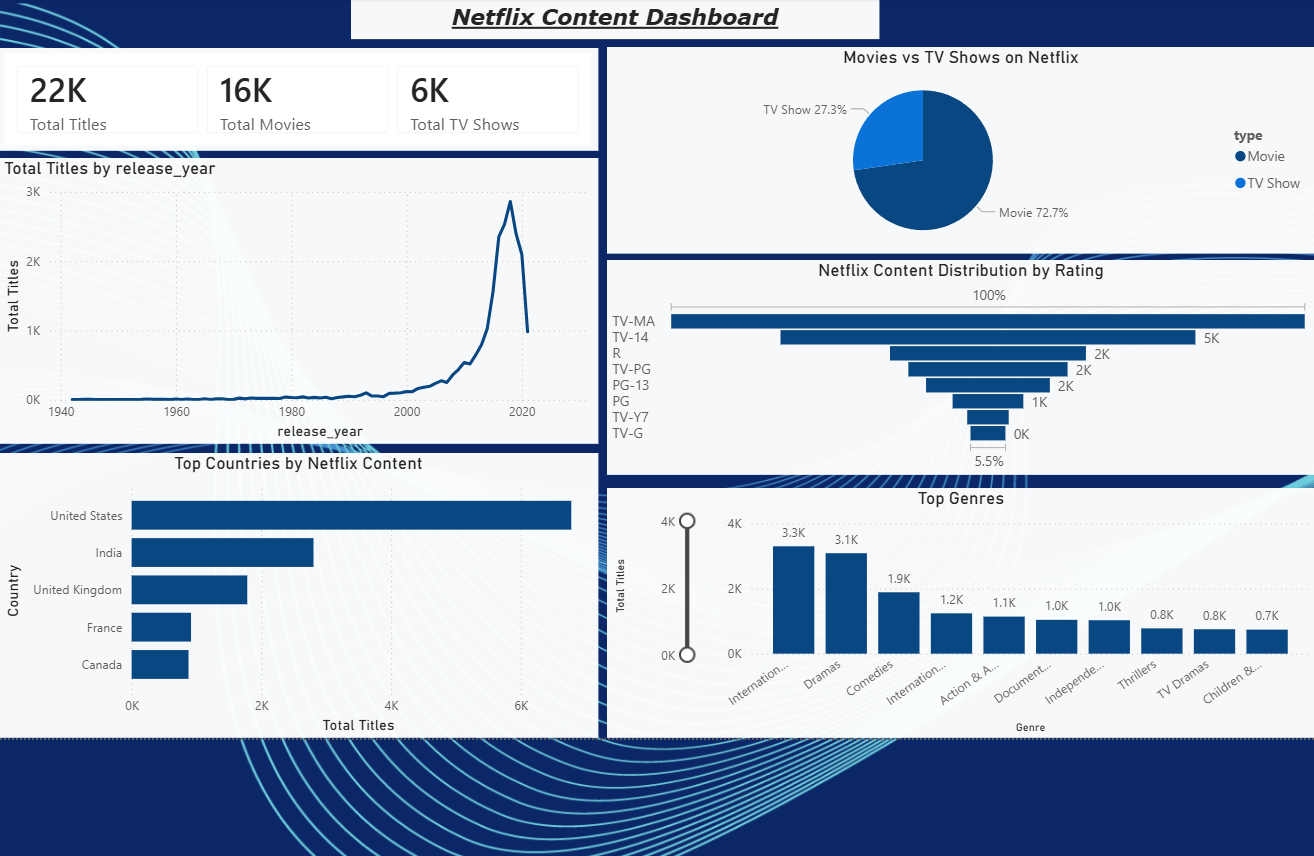

The dashboard page shown, as its layout file describes it:
{"tool":"powerbi","page":{"name":"Page 1","canvas":[1280,720],"ordinal":0},"visuals":[{"type":"cardVisual","fields":{"Data":["netflix_titles.Total Titles","netflix_titles.Total Movies","netflix_titles.Total TV Shows"]},"box":[0,48.6,582.6,100.2],"z":0},{"type":"clusteredColumnChart","title":"Top Genres ","fields":{"Category":["netflix_titles.Genre"],"Y":["netflix_titles.Total Titles"]},"box":[591.4,476.6,688.6,243.2],"z":1000},{"type":"pieChart","title":"Movies vs TV Shows on Netflix","fields":{"Y":["netflix_titles.Total Titles"],"Category":["netflix_titles.type"]},"box":[591.4,47.7,688.6,201.3],"z":2000},{"type":"lineChart","fields":{"Category":["netflix_titles.release_year"],"Y":["netflix_titles.Total Titles"]},"box":[0,155.6,582.6,278.2],"z":3000},{"type":"clusteredBarChart","title":"Top Countries by Netflix Content","fields":{"Category":["netflix_titles.Country"],"Y":["netflix_titles.Total Titles"]},"box":[0,442.6,582.6,277.2],"z":4000},{"type":"funnel","title":"Netflix Content Distribution by Rating","fields":{"Category":["netflix_titles.rating"],"Y":["netflix_titles.Total Titles"]},"box":[591.4,254.8,688.6,209.1],"z":5000},{"type":"textbox","box":[342.4,0,513.6,39.9],"z":6000}]}

Visuals, with their boxes in screenshot pixels (x1, y1, x2, y2):
cardVisual - netflix_titles.Total Titles x netflix_titles.Total Movies: box=[7, 49, 597, 151]
"Top Genres " clusteredColumnChart: box=[606, 482, 1303, 729]
"Movies vs TV Shows on Netflix" pieChart: box=[606, 48, 1303, 252]
lineChart - netflix_titles.release_year x netflix_titles.Total Titles: box=[7, 158, 597, 439]
"Top Countries by Netflix Content" clusteredBarChart: box=[7, 448, 597, 729]
"Netflix Content Distribution by Rating" funnel: box=[606, 258, 1303, 470]
textbox: box=[353, 0, 873, 40]
